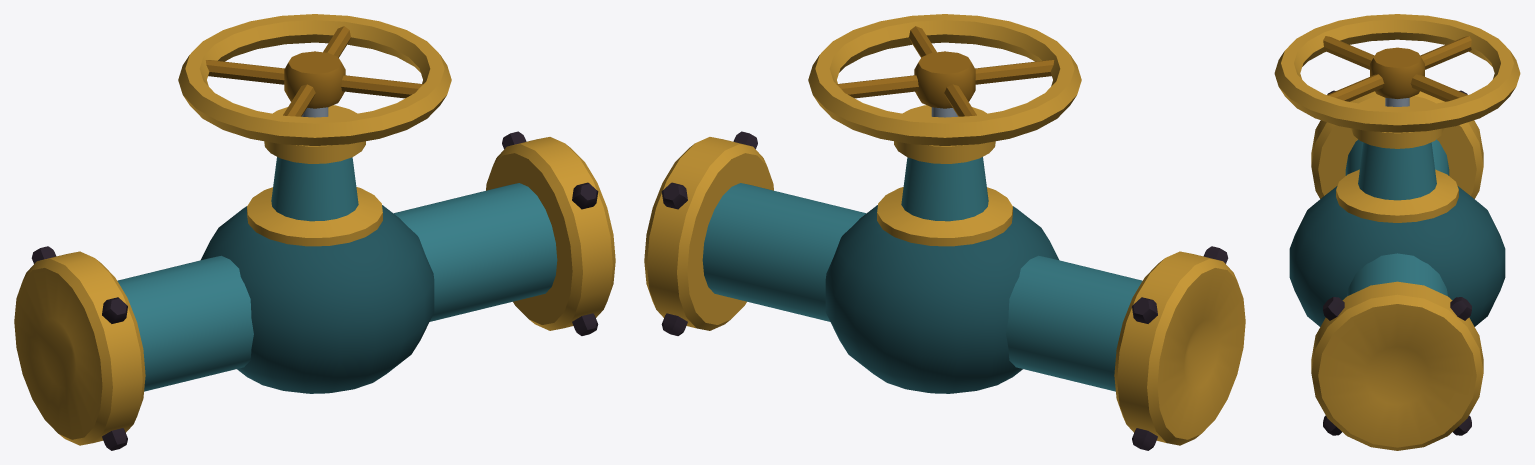
Rendered from Valve_18.glb.
The picture shows the model from 3 angles, left to right: view 1: azimuth 30°, elevation 25°; view 2: azimuth 150°, elevation 25°; view 3: azimuth 270°, elevation 25°; orthographic projection. The views are drawn at different scales.
Parts seen in each view (by area): view 1: Valve_18; view 2: Valve_18; view 3: Valve_18.
Boxes of the visible parts, x1,y1,x2,y2 form: Valve_18: (14, 14, 615, 450); Valve_18: (644, 14, 1245, 450); Valve_18: (1274, 14, 1520, 450).
Size of the model in its own units: 3.1 by 1.84 by 1.43.
